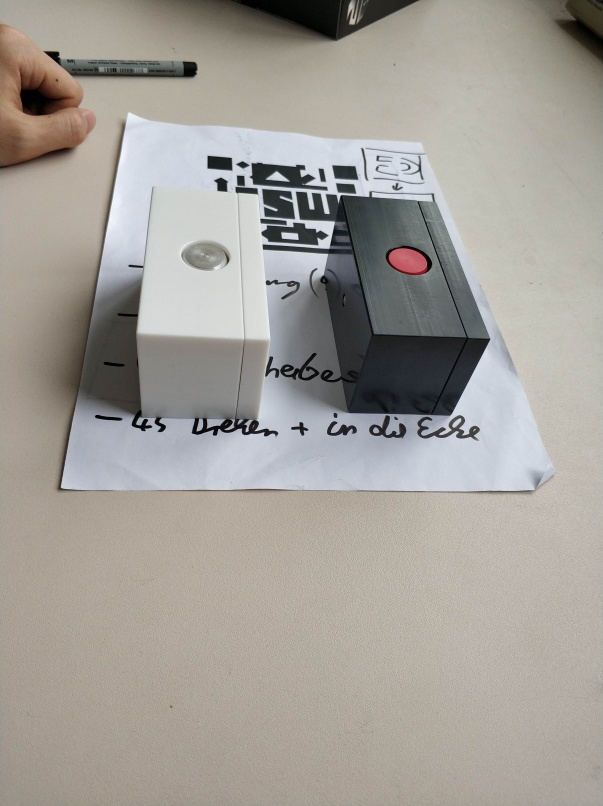black+black+red: (324, 192, 488, 420)
white+white+silver: (133, 182, 276, 423)
